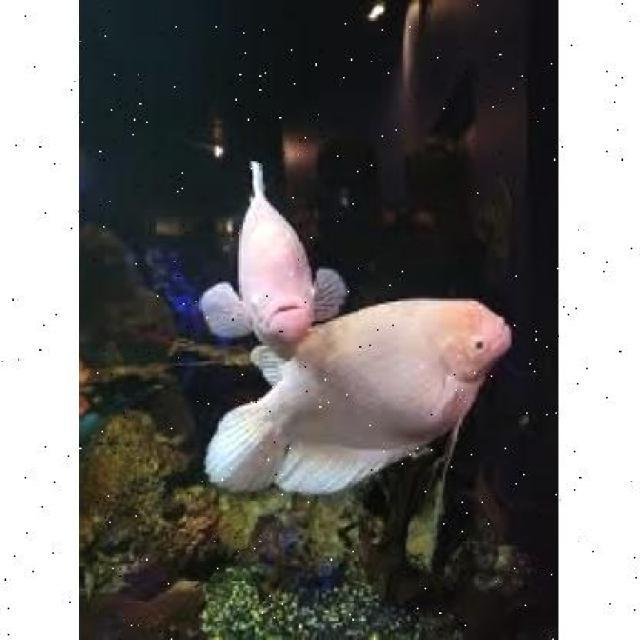gurame: (198, 298, 516, 498), (190, 163, 346, 363)
